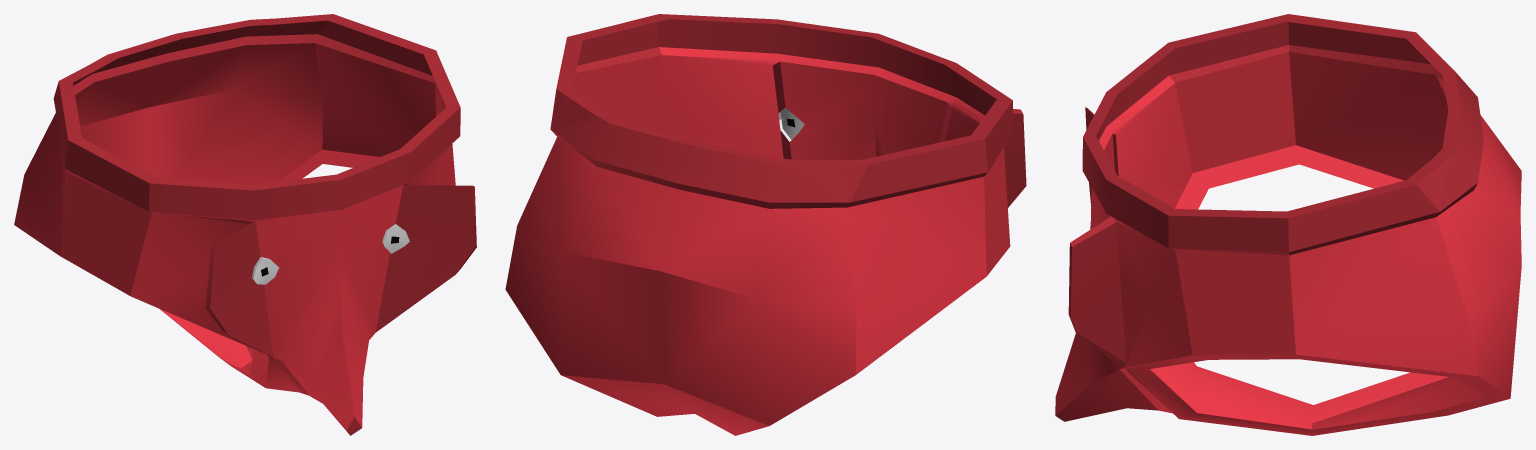
The model's file is UnderPants07.fbx.
3 renders of one model, left to right at view 1: azimuth 30°, elevation 25°; view 2: azimuth 150°, elevation 25°; view 3: azimuth 270°, elevation 25°, orthographic. The views are drawn at different scales.
Visible parts, largest first — view 1: UnderPants07; view 2: UnderPants07; view 3: UnderPants07.
Part boxes in pixels (left/top/right/bottom): UnderPants07: left=14, top=14, right=476, bottom=435; UnderPants07: left=505, top=14, right=1026, bottom=435; UnderPants07: left=1055, top=14, right=1521, bottom=435.
Size of the model in its own units: 32.41 by 23.54 by 30.52.
